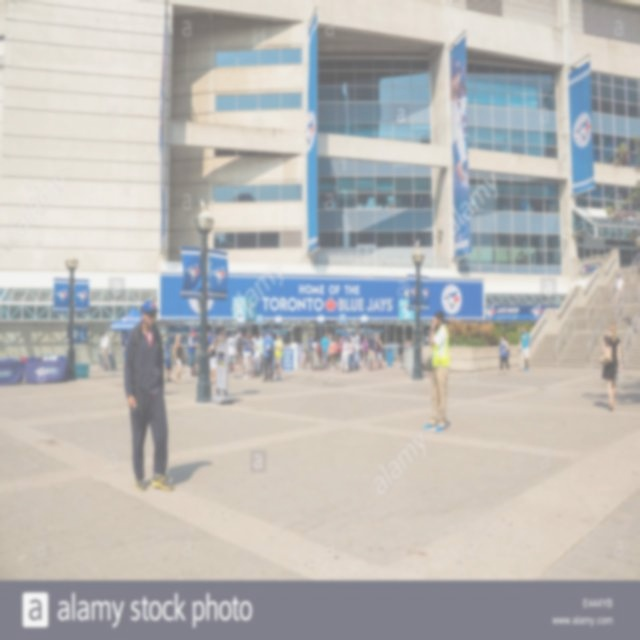pessoa: (120, 298, 176, 492), (422, 311, 450, 434), (448, 61, 473, 192), (136, 457, 216, 493), (600, 321, 622, 411), (262, 328, 276, 383), (172, 331, 185, 385), (518, 324, 532, 372), (186, 329, 199, 379), (232, 329, 245, 379), (206, 335, 218, 385), (272, 330, 284, 380), (98, 330, 111, 372), (498, 332, 510, 376), (318, 330, 331, 370), (365, 330, 377, 372), (242, 331, 252, 379), (310, 334, 322, 372), (396, 338, 410, 370), (327, 336, 340, 370), (226, 330, 236, 372), (256, 332, 266, 374), (338, 333, 348, 375), (352, 329, 362, 369), (347, 334, 357, 372), (251, 334, 260, 376), (613, 272, 624, 306), (164, 342, 173, 382), (376, 334, 386, 370), (248, 335, 256, 378), (241, 333, 249, 375), (220, 328, 228, 367), (340, 334, 348, 372), (120, 329, 129, 361), (362, 333, 369, 371), (308, 332, 315, 369), (326, 333, 333, 369), (428, 344, 436, 374), (204, 326, 214, 346), (215, 330, 228, 344), (300, 346, 307, 372), (416, 195, 426, 211), (424, 328, 432, 346), (346, 328, 354, 344), (374, 332, 381, 350), (408, 338, 416, 348), (637, 254, 640, 280), (232, 331, 236, 337)
